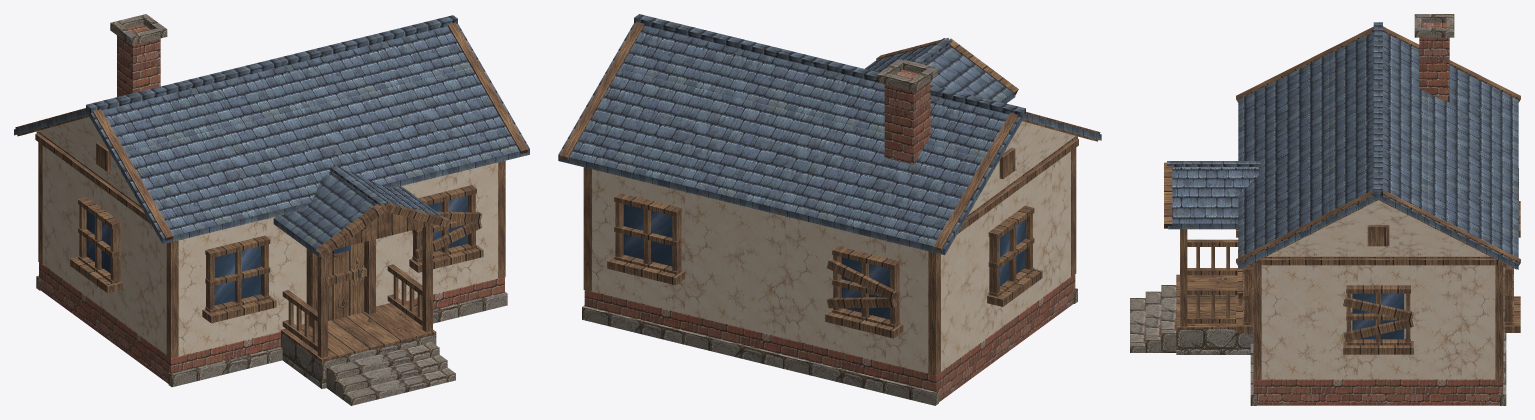
File: home.glb
3 renders of one model, left to right at view 1: azimuth 30°, elevation 25°; view 2: azimuth 150°, elevation 25°; view 3: azimuth 270°, elevation 25°, orthographic. The views are drawn at different scales.
Parts seen in each view (by area): view 1: Roof, Wood, Plaster, Stone, Brick, Glass; view 2: Roof, Plaster, Wood, Brick, Stone, Glass; view 3: Roof, Plaster, Wood, Brick, Stone, Glass.
Boxes of the visible parts, <box> form: Roof: <box>14,15,529,256</box>; Wood: <box>15,22,528,361</box>; Plaster: <box>39,117,497,356</box>; Stone: <box>36,14,507,405</box>; Brick: <box>39,24,504,383</box>; Glass: <box>86,195,467,305</box>; Roof: <box>558,14,1101,255</box>; Plaster: <box>592,121,1075,373</box>; Wood: <box>559,21,1100,375</box>; Brick: <box>584,69,1075,401</box>; Stone: <box>582,58,1077,405</box>; Glass: <box>623,204,1024,319</box>; Roof: <box>1167,22,1518,269</box>; Plaster: <box>1261,200,1495,379</box>; Wood: <box>1164,26,1520,379</box>; Brick: <box>1253,22,1502,405</box>; Stone: <box>1130,14,1506,405</box>; Glass: <box>1352,293,1404,339</box>.
Size of the model in its own units: 7.7 by 5.49 by 7.52.
6 materials, 6 textured.
